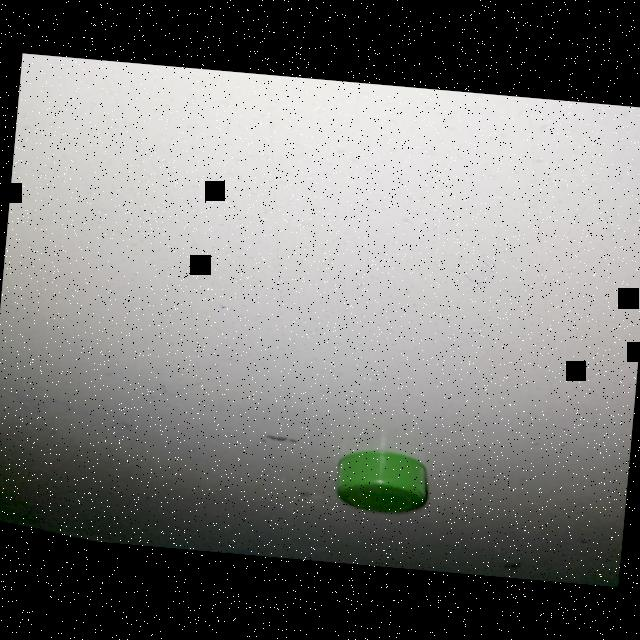plastic_bottle_cap: (332, 448, 432, 516)
